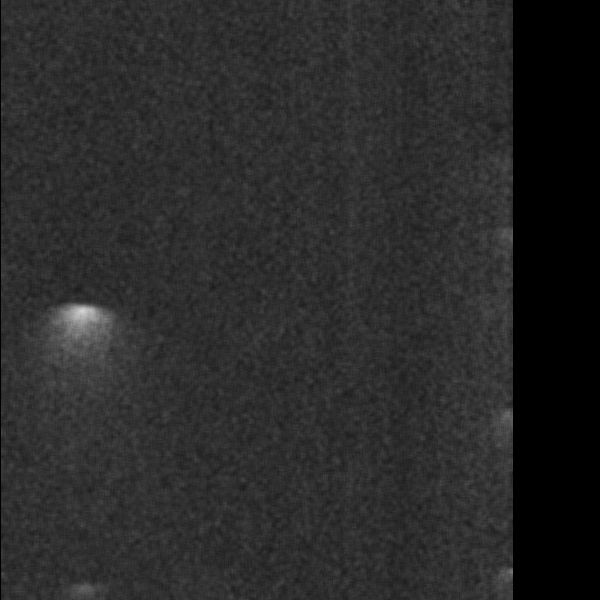spark: (61, 293, 96, 342), (59, 574, 112, 600), (496, 221, 519, 264), (500, 396, 513, 471)
